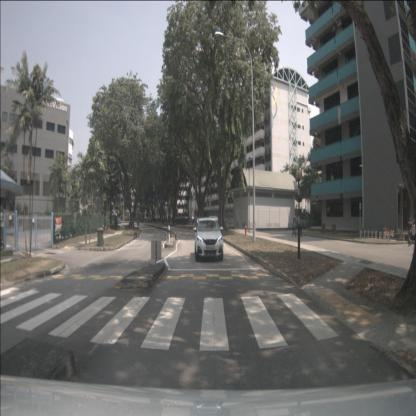human-pedestrian-adult: (407, 218, 416, 247), (292, 217, 296, 237), (300, 216, 302, 237)
vehicle-car: (195, 218, 223, 261), (410, 220, 416, 242)
